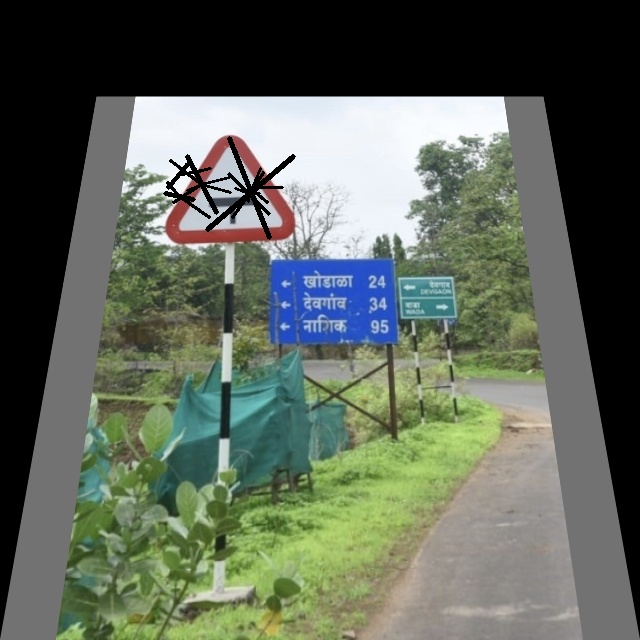T_Intersection: (163, 138, 300, 240)
